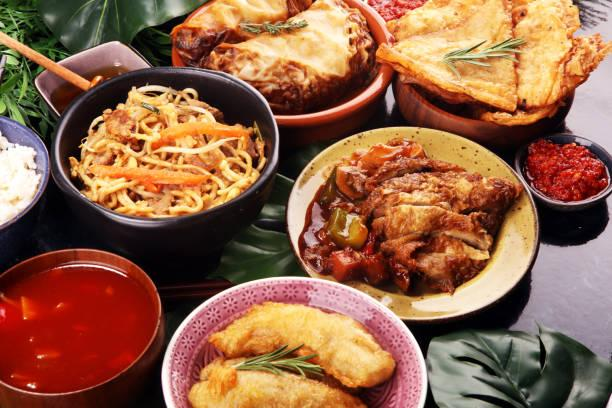Braised Crucian Carp: (287, 125, 537, 322), (49, 65, 278, 269), (161, 275, 422, 407), (1, 247, 165, 407), (176, 0, 384, 121)
